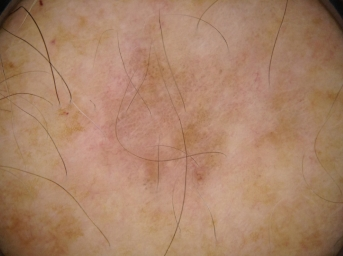nevus: (98, 49, 229, 181)
